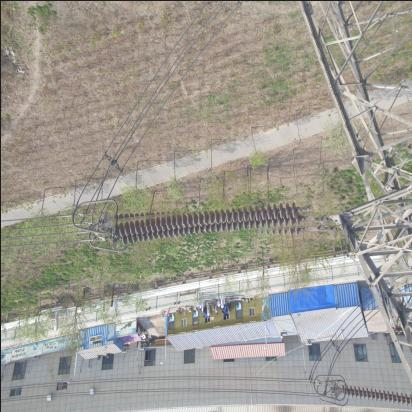insulator: (111, 204, 313, 243)
